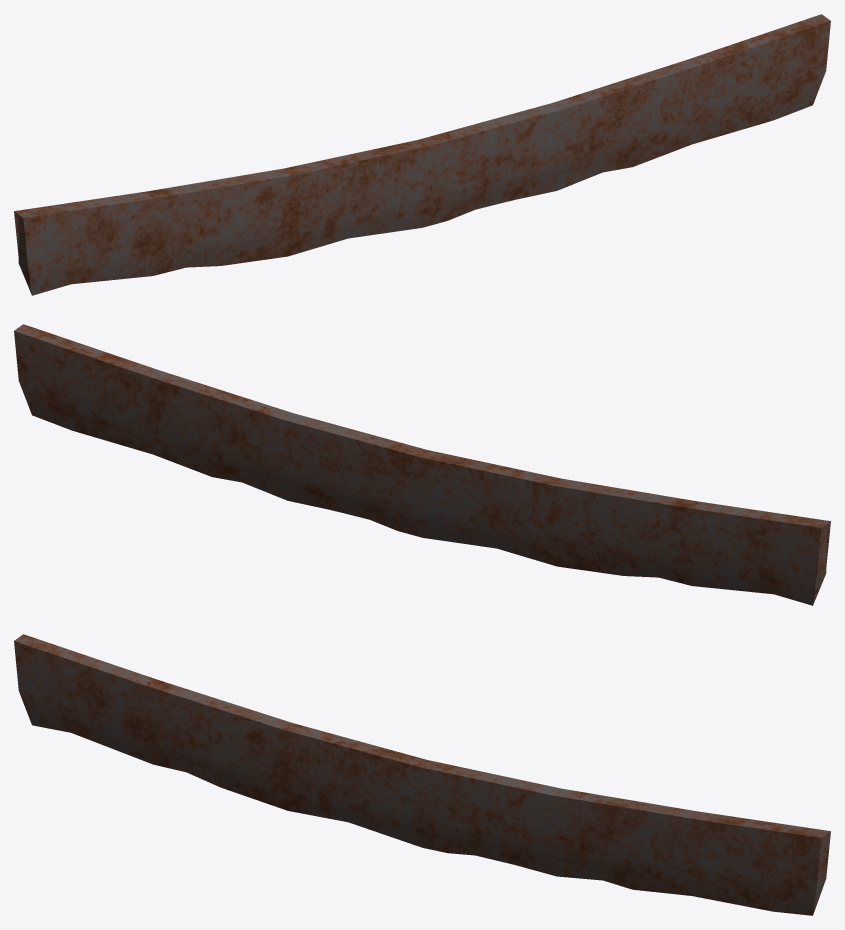
File: Cleaver.glb
3 views of the same model, one above another, from view 1: azimuth 30°, elevation 25°; view 2: azimuth 150°, elevation 25°; view 3: azimuth 330°, elevation 25° (orthographic).
Parts seen in each view (by area): view 1: Cleaver; view 2: Cleaver; view 3: Cleaver.
Part boxes in pixels (x1,y1,x2,y2): Cleaver: (14, 14, 830, 295); Cleaver: (14, 324, 830, 605); Cleaver: (14, 634, 830, 915).
Size of the model in its own units: 10 by 1.32 by 0.2.
Materials: 1 (1 with a texture image).
